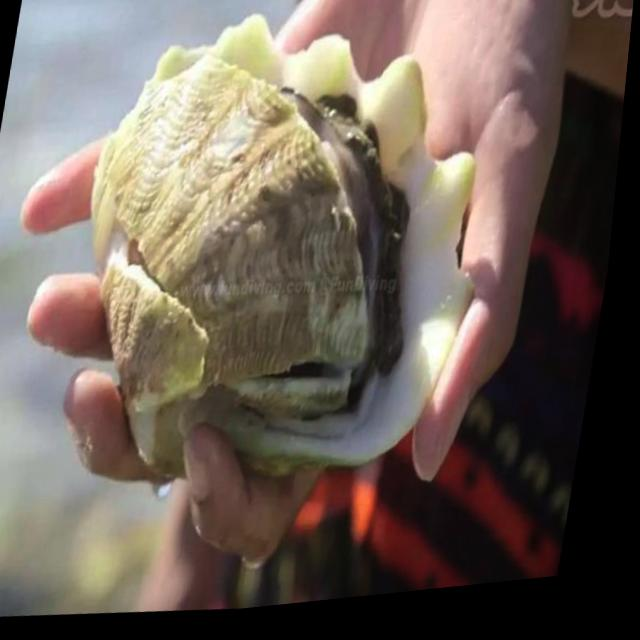Oyster-Open: (39, 0, 523, 517)
